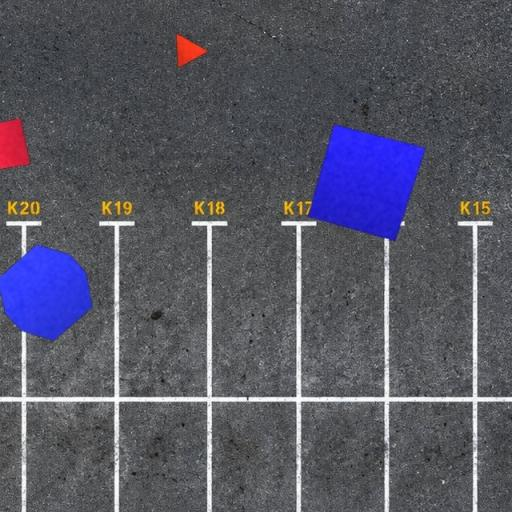BLUE_SQUARE: (308, 124, 426, 242)
RED_SQUARE: (0, 118, 31, 172)
